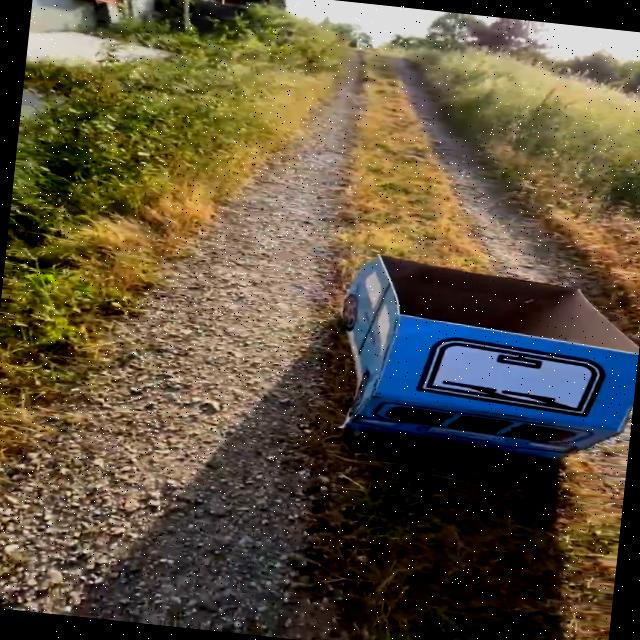blue_car: (251, 223, 640, 487)
